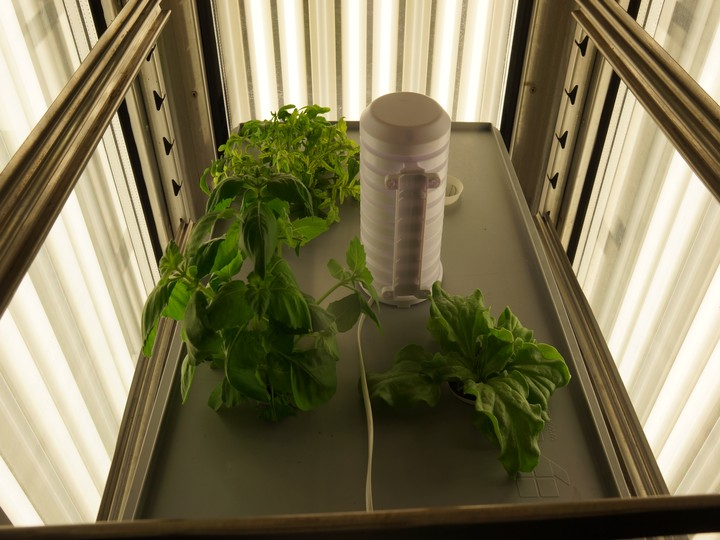basilic_blue_spice: (134, 161, 380, 441)
ficoide_glaciale: (366, 270, 576, 485)
roquette_sauvage_red_veined: (196, 98, 359, 204)
